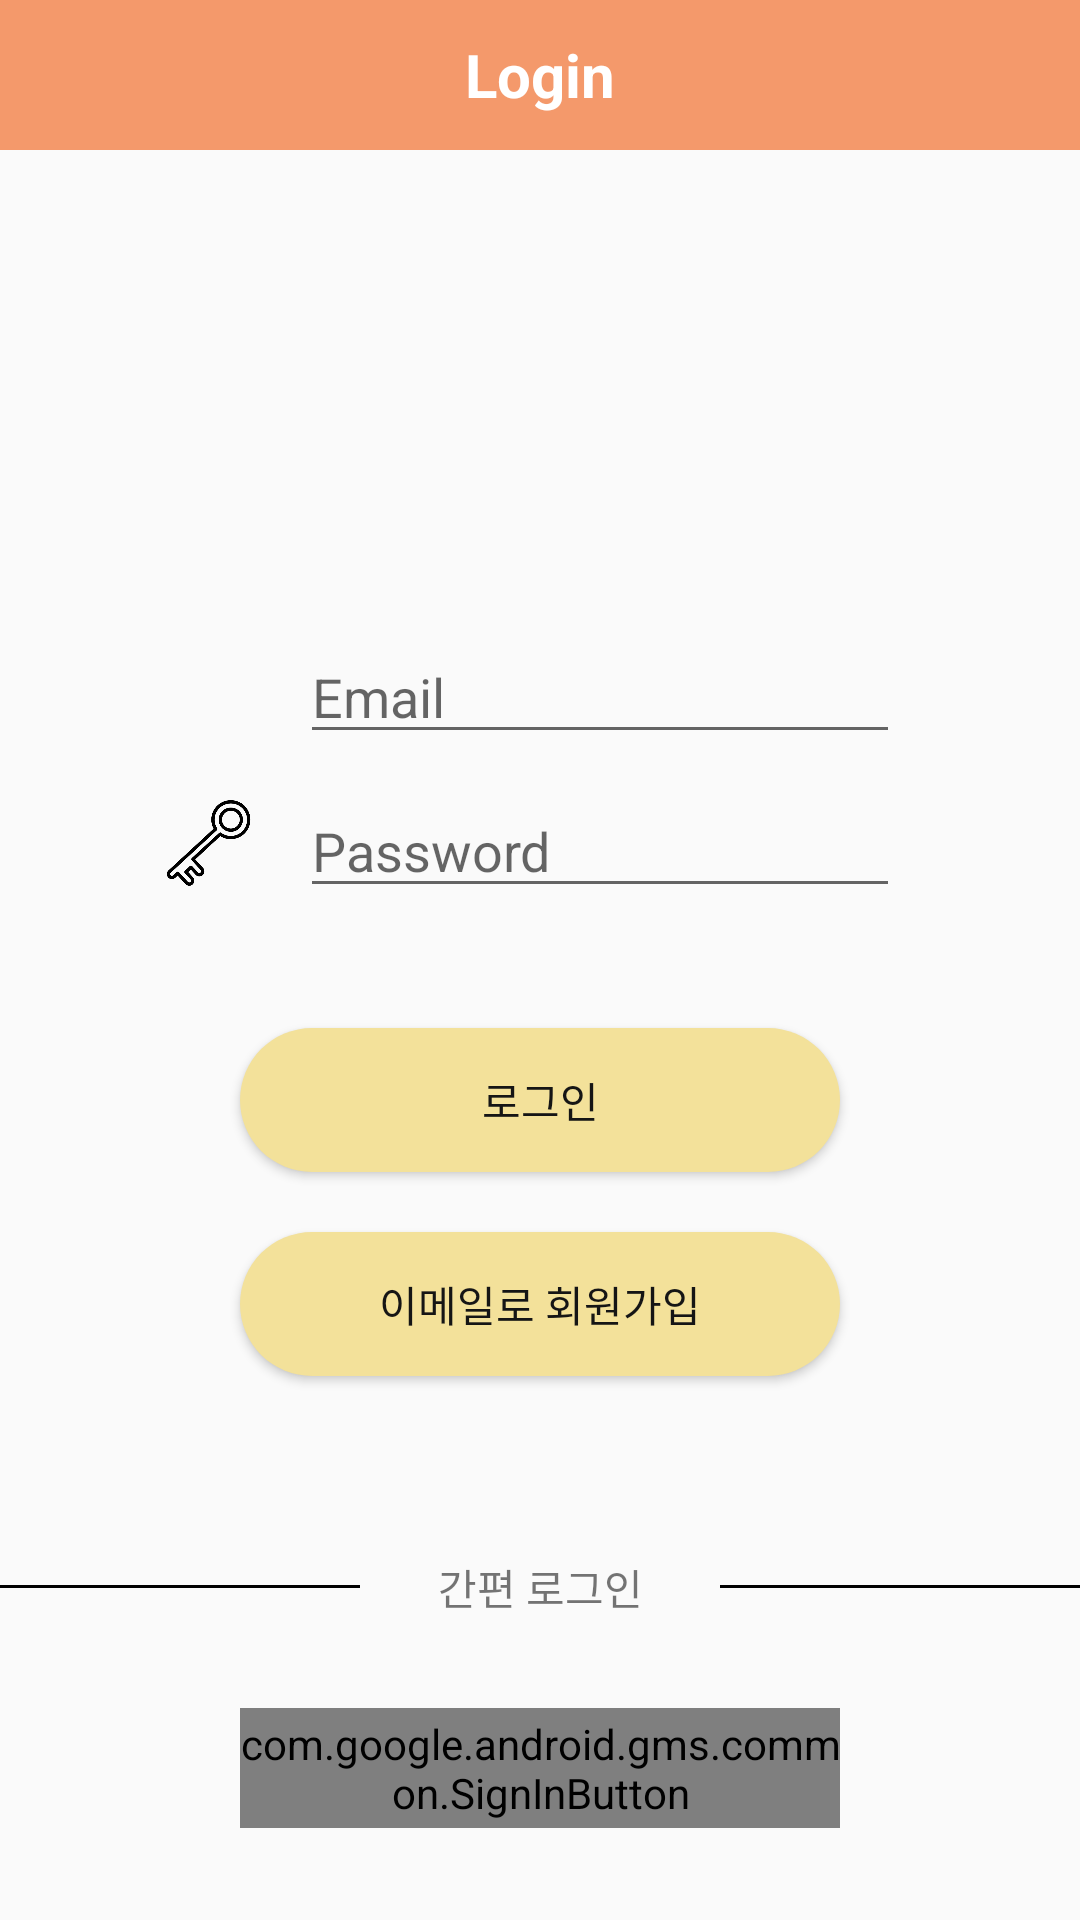

Where icons sit on this 1080*1920 app screen, as (x1, y1, x2, y2):
keyicon: (167, 800, 250, 886)
